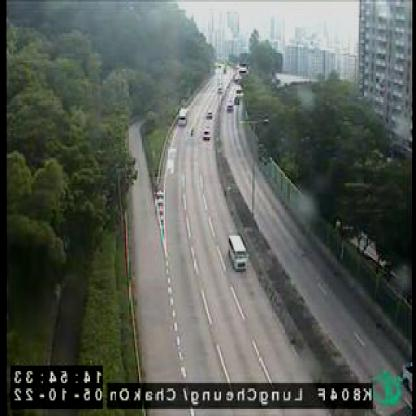Bus: (229, 234, 248, 269)
Car: (203, 127, 212, 140)
Truck: (180, 106, 188, 123)
